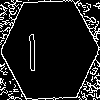I: (25, 25, 39, 71)
